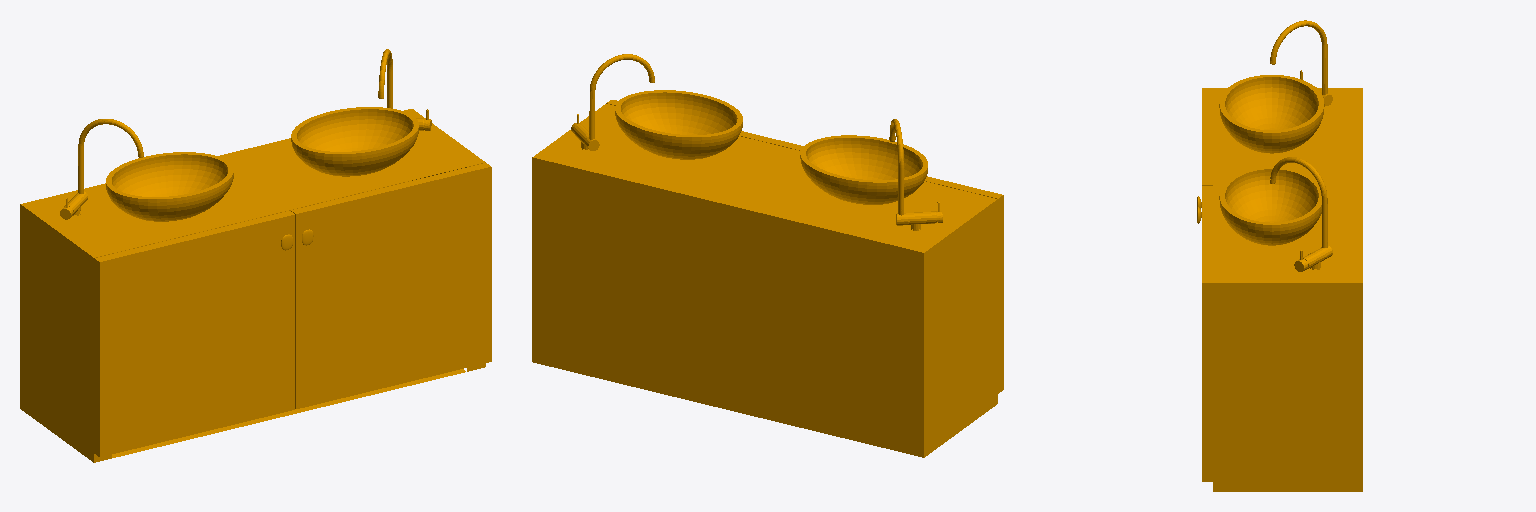
robot.urdf — sink_1:
<?xml version="1.0" ?>
<robot name="sink_1" version="1.0">
  <link name="base_link">
    <inertial>
      <origin rpy="0.0 0.0 0.0" xyz="0.0 0.0 0.0"/>
      <mass value="0.0"/>
      <inertia ixx="0.001" ixy="0.0" ixz="0.0" iyy="0.001" iyz="0.0" izz="0.001"/>
    </inertial>
    <visual name="sink_1___4">
      <origin rpy="0.0 0.0 0.0" xyz="0.0 -0.0 0.0"/>
      <geometry>
        <mesh filename="shape/visual/sink_1_m4_vm.obj"/>
      </geometry>
    </visual>
    <visual name="sink_1___1">
      <origin rpy="0.0 0.0 0.0" xyz="0.0 -0.0 0.0"/>
      <geometry>
        <mesh filename="shape/visual/sink_1_m1_vm.obj"/>
      </geometry>
    </visual>
    <visual name="sink_1___2">
      <origin rpy="0.0 0.0 0.0" xyz="0.0 -0.0 0.0"/>
      <geometry>
        <mesh filename="shape/visual/sink_1_m2_vm.obj"/>
      </geometry>
    </visual>
    <visual name="sink_1___6">
      <origin rpy="0.0 0.0 0.0" xyz="0.0 -0.0 0.0"/>
      <geometry>
        <mesh filename="shape/visual/sink_1_m6_vm.obj"/>
      </geometry>
    </visual>
    <visual name="sink_1___3">
      <origin rpy="0.0 0.0 0.0" xyz="0.0 -0.0 0.0"/>
      <geometry>
        <mesh filename="shape/visual/sink_1_m3_vm.obj"/>
      </geometry>
    </visual>
    <collision>
      <origin rpy="0.0 0.0 0.0" xyz="0.0 -0.0 0.0"/>
      <geometry>
        <mesh filename="shape/collision/sink_1_cm.obj"/>
      </geometry>
    </collision>
  </link>
</robot>

--- Render facts (derived) ---
Views: 3 orthographic renders of the robot side by side, from view 1: azimuth 30°, elevation 25°; view 2: azimuth 150°, elevation 25°; view 3: azimuth 270°, elevation 25°.
Robot: sink_1 — 1 links, 0 joints (none); root link base_link; default pose: every joint at zero.
Links seen in each view (by area): view 1: base_link; view 2: base_link; view 3: base_link.
Boxes of the visible links, x1,y1,x2,y2 form: base_link: [20, 49, 491, 462]; base_link: [532, 54, 1003, 457]; base_link: [1197, 20, 1362, 491].
Size in the robot's own frame: 2.24 by 0.8109 by 1.63 metres.
Meshes: 5 distinct files referenced, 4 mesh visuals loaded (4 OBJ); not drawn: 1 (reference not matched to a file when rendering).